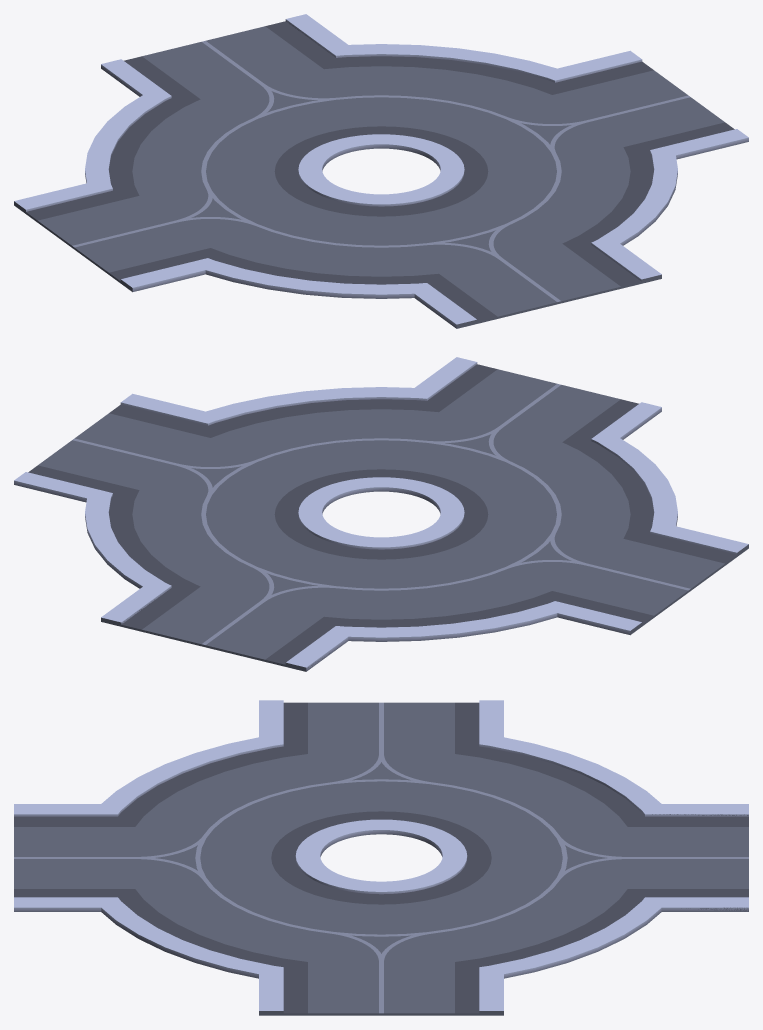
Rendered from road-roundabout.glb.
The picture shows the model from 3 angles, top to bottom: view 1: azimuth 30°, elevation 25°; view 2: azimuth 150°, elevation 25°; view 3: azimuth 270°, elevation 25°; orthographic projection. The views are drawn at different scales.
Parts seen in each view (by area): view 1: road-roundabout; view 2: road-roundabout; view 3: road-roundabout.
Boxes of the visible parts, x1,y1,x2,y2 form: road-roundabout: (14, 14, 748, 328); road-roundabout: (14, 357, 748, 671); road-roundabout: (14, 700, 748, 1015).
Bounding box in the file's own units: 3 × 0.0201 × 3.
1 material, 1 textured.
